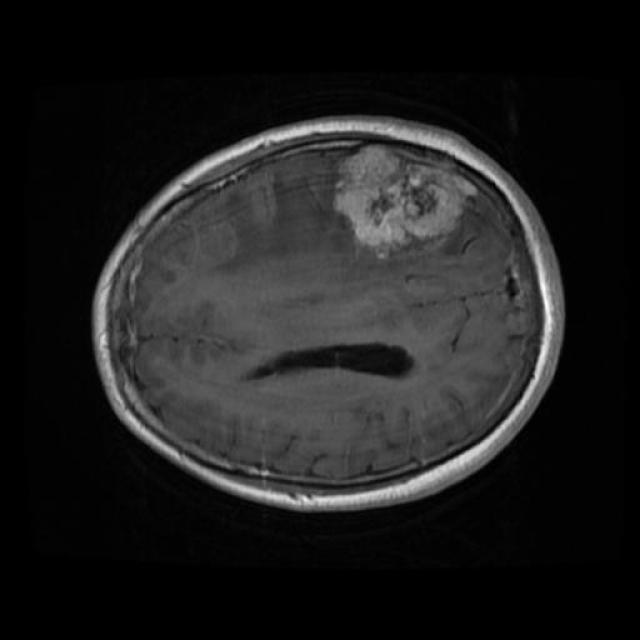Meningioma: (335, 145, 477, 257)
